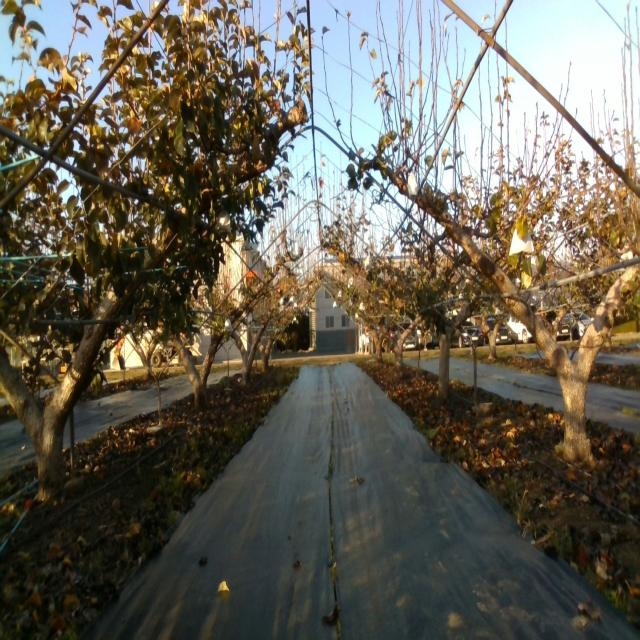pearbags: (510, 228, 535, 256), (216, 204, 231, 233), (407, 172, 418, 200)
